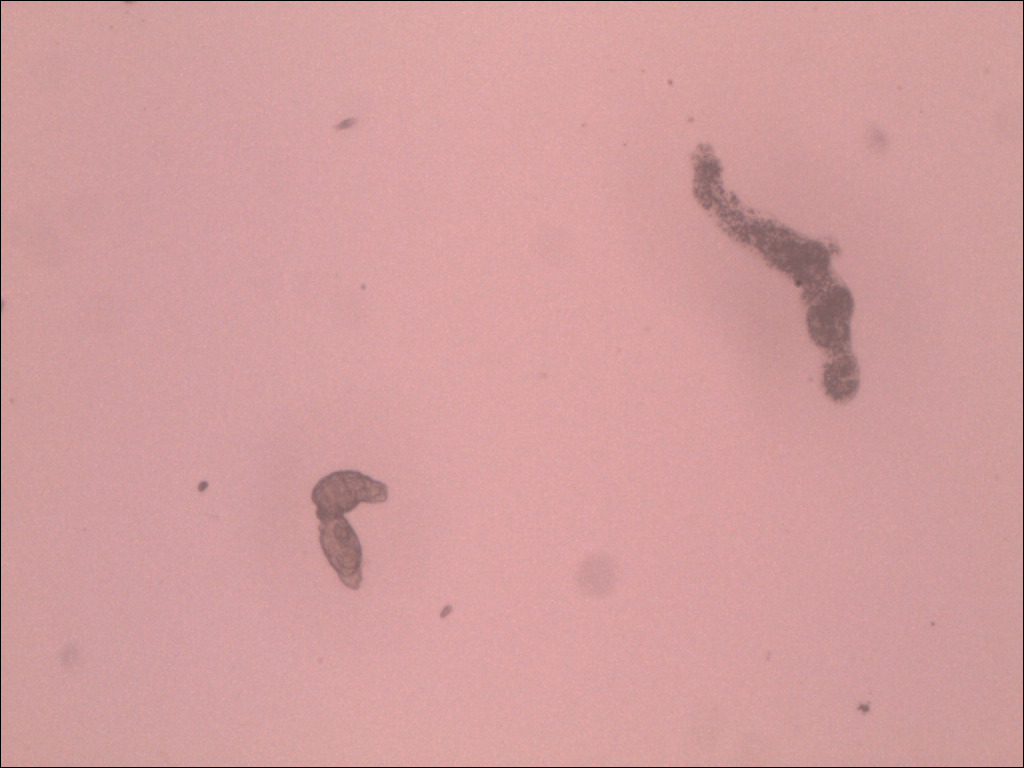amoeba: (665, 128, 890, 420)
